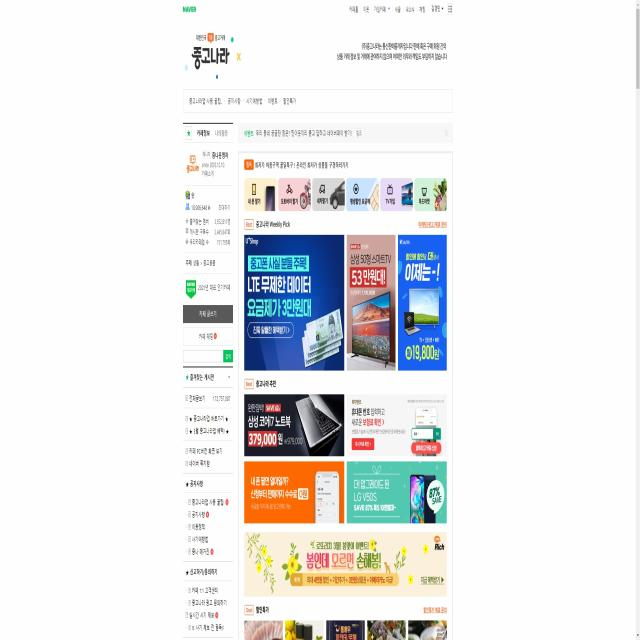menu-bar: (346, 1, 456, 20)
side-panel: (180, 120, 236, 639)
tab-bar: (184, 89, 300, 111)
